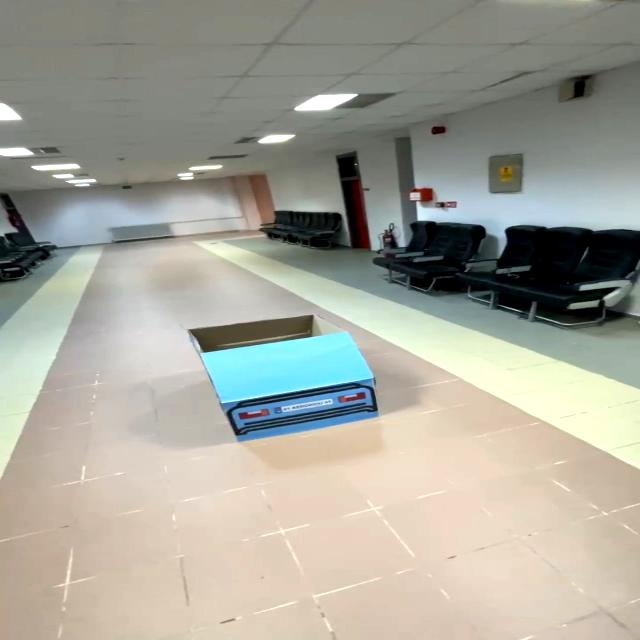blue_car: (185, 310, 382, 446)
